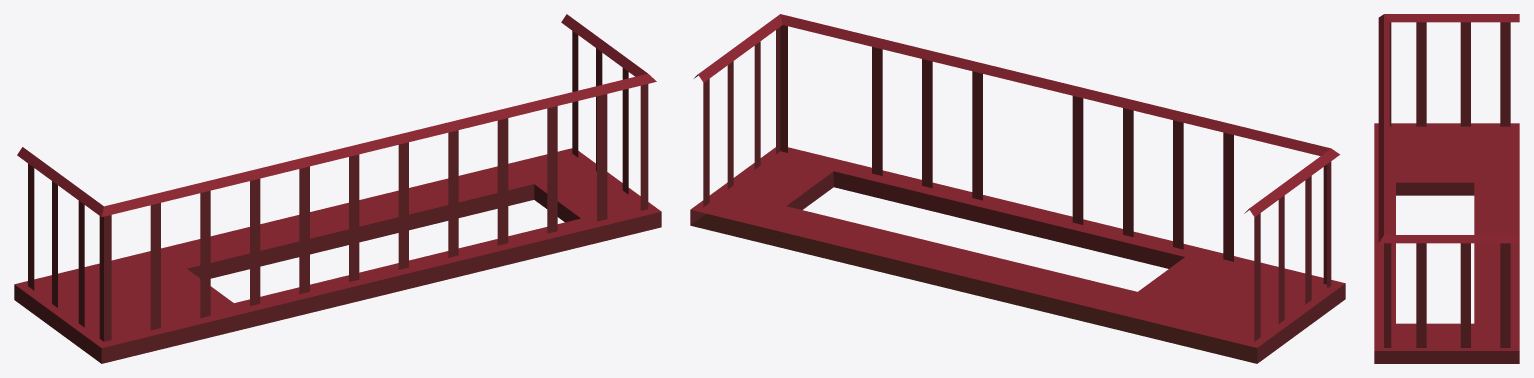
File: TB_CITY_BD_StairBody_D.FBX
The picture shows the model from 3 angles, left to right: view 1: azimuth 30°, elevation 25°; view 2: azimuth 150°, elevation 25°; view 3: azimuth 270°, elevation 25°; orthographic projection. The views are drawn at different scales.
Parts seen in each view (by area): view 1: TB_CITY_BD_StairBody_D; view 2: TB_CITY_BD_StairBody_D; view 3: TB_CITY_BD_StairBody_D.
Boxes of the visible parts, x1,y1,x2,y2 form: TB_CITY_BD_StairBody_D: (14,14,661,363); TB_CITY_BD_StairBody_D: (690,14,1345,363); TB_CITY_BD_StairBody_D: (1374,14,1519,363).
Size of the model in its own units: 5.95 by 1.54 by 1.61.
